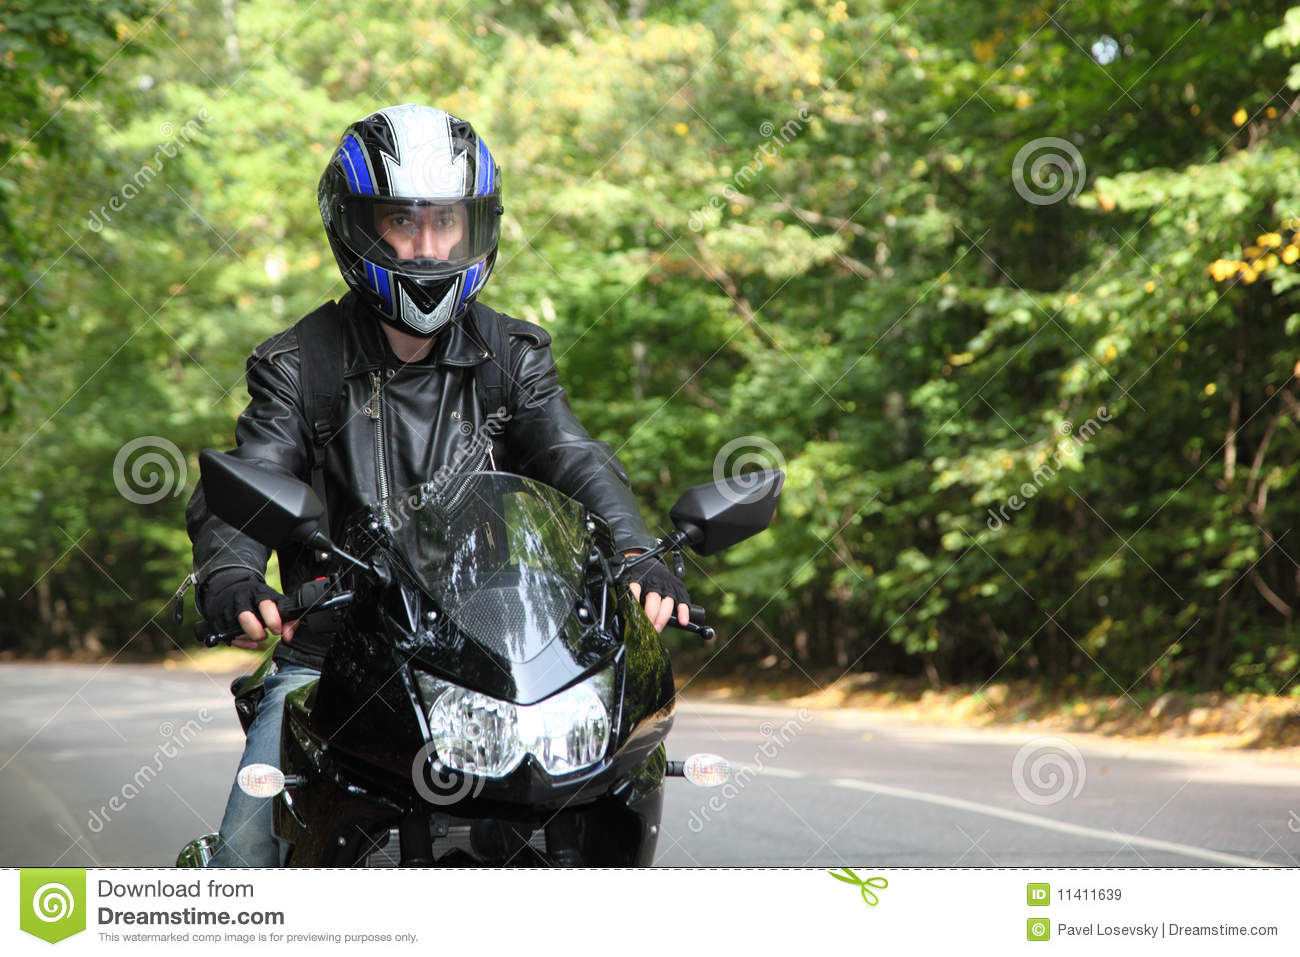helmet: (323, 99, 508, 326)
